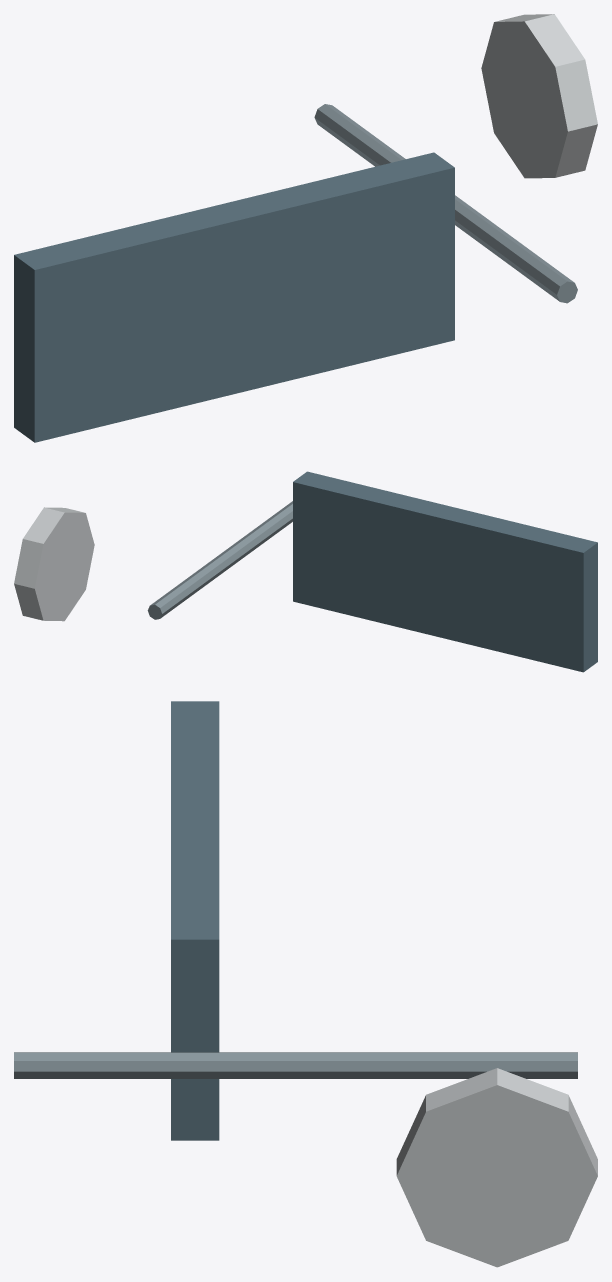
The model's file is bp-cuff-low.glb.
3 views of the same model, one above another, from view 1: azimuth 30°, elevation 25°; view 2: azimuth 150°, elevation 25°; view 3: azimuth 270°, elevation 25° (orthographic). The views are drawn at different scales.
Parts seen in each view (by area): view 1: bp_cuff, bp_gauge, bp_tube; view 2: bp_cuff, bp_gauge, bp_tube; view 3: bp_gauge, bp_cuff, bp_tube.
Part boxes in pixels (left/top/right/bottom): bp_cuff: left=14, top=152, right=454, bottom=442; bp_gauge: left=481, top=14, right=597, bottom=178; bp_tube: left=314, top=104, right=577, bottom=303; bp_cuff: left=293, top=471, right=597, bottom=672; bp_gauge: left=14, top=507, right=94, bottom=621; bp_tube: left=147, top=501, right=292, bottom=619; bp_gauge: left=396, top=1068, right=597, bottom=1267; bp_cuff: left=171, top=701, right=219, bottom=1140; bp_tube: left=14, top=1052, right=577, bottom=1078.
Bounding box in the file's own units: 2.2 × 0.55 × 1.45.
